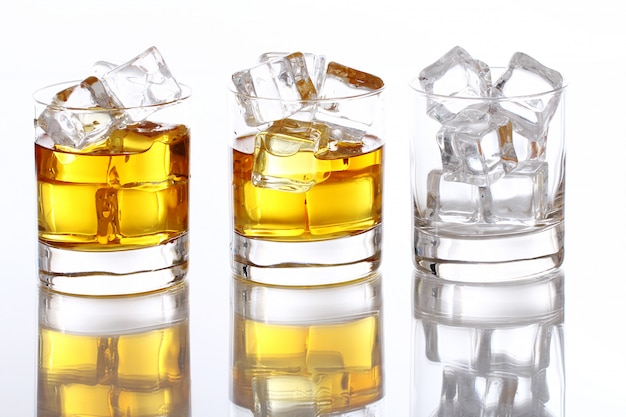alcohol: (224, 39, 386, 290), (31, 45, 189, 297)
